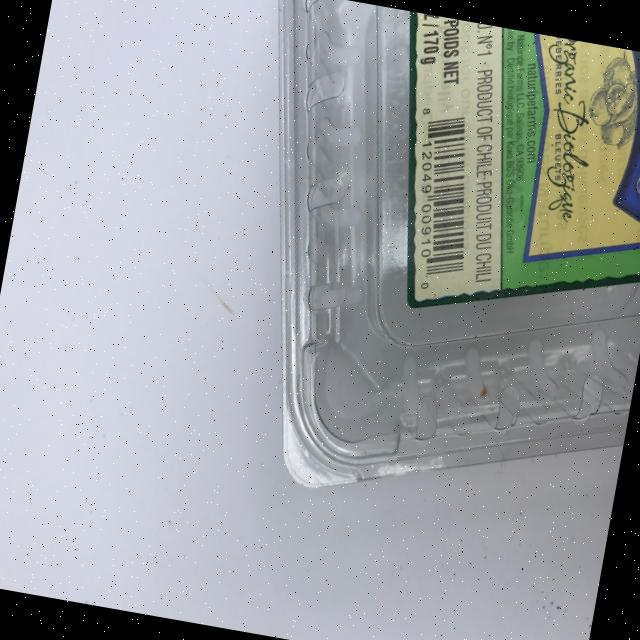plastic: (193, 0, 640, 539)
